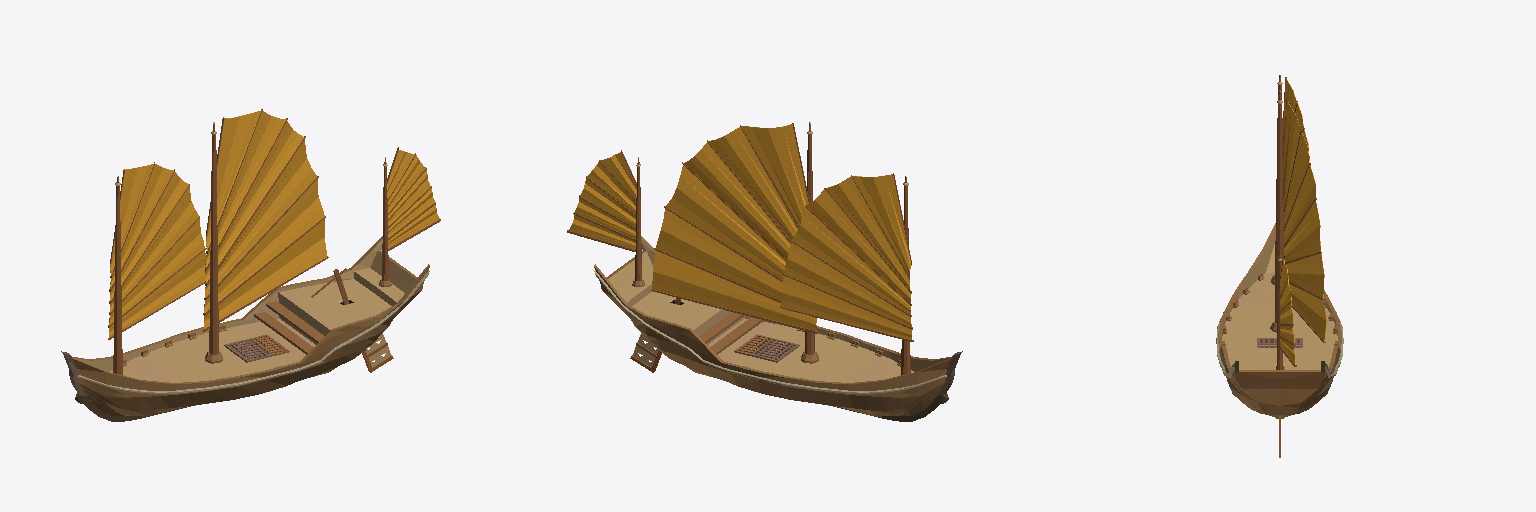
The picture shows the model from 3 angles: view 1: azimuth 30°, elevation 25°; view 2: azimuth 150°, elevation 25°; view 3: azimuth 270°, elevation 25°; orthographic projection.
Parts seen in each view (by area): view 1: Sail_SaIL, Body, Mast; view 2: Sail_SaIL, Body, Mast; view 3: Body, Sail_SaIL, Mast.
Boxes of the visible parts, x1=… form: Sail_SaIL: x1=109, y1=110, x2=439, y2=337; Body: x1=61, y1=236, x2=429, y2=421; Mast: x1=108, y1=109, x2=440, y2=374; Sail_SaIL: x1=569, y1=124, x2=911, y2=339; Body: x1=594, y1=236, x2=962, y2=421; Mast: x1=567, y1=122, x2=913, y2=374; Body: x1=1216, y1=223, x2=1343, y2=457; Sail_SaIL: x1=1280, y1=78, x2=1326, y2=364; Mast: x1=1275, y1=75, x2=1325, y2=369.
Bounding box in the file's own units: 377 × 270 × 108.
1 materials, 1 textured.